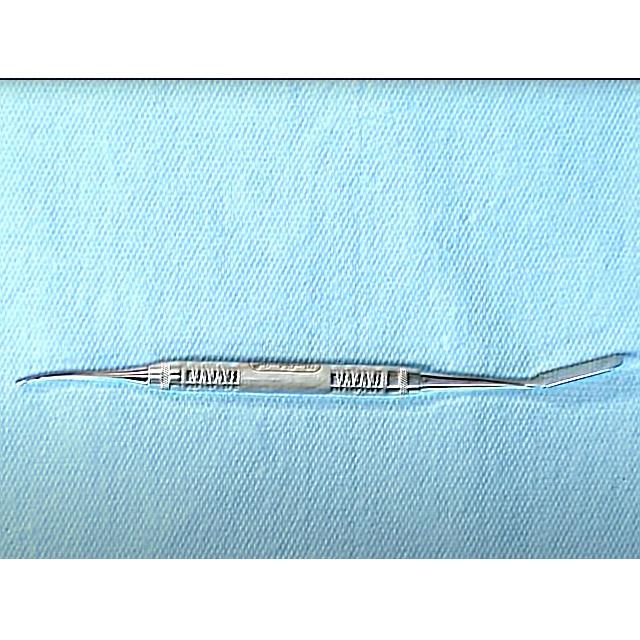elevador: (14, 354, 639, 398)
